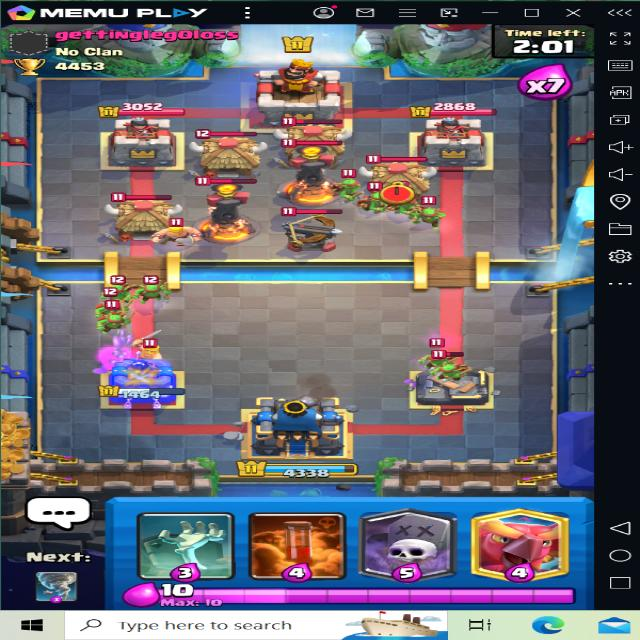barbarian: (114, 337, 172, 369), (154, 216, 206, 244)
goblin-hut: (102, 188, 185, 240), (187, 126, 266, 178), (273, 115, 353, 165), (363, 152, 434, 204)
inferno-tower: (188, 172, 274, 250), (278, 136, 342, 201)
spear-goblin: (436, 348, 472, 384), (136, 277, 174, 305), (104, 277, 141, 305), (422, 337, 454, 368), (335, 167, 366, 196), (95, 306, 127, 334), (417, 202, 447, 224), (361, 187, 389, 210)
x-bow: (269, 200, 348, 251)
